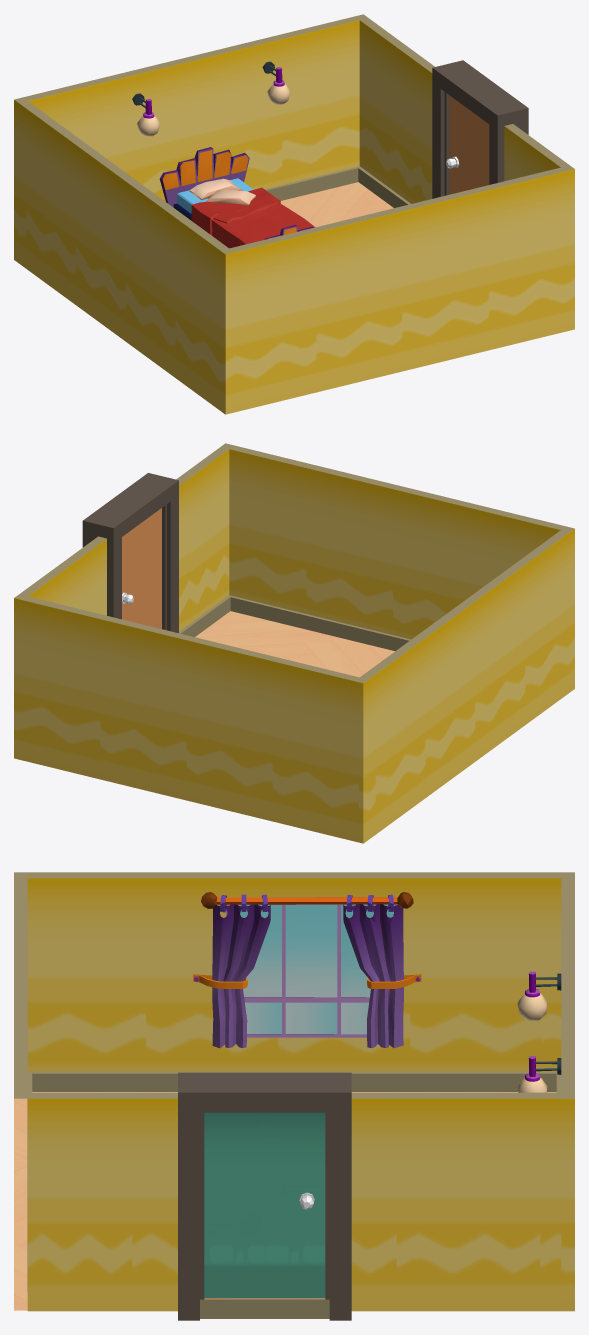
Rendered from Room.fbx.
3 views of the same model, one above another, from view 1: azimuth 30°, elevation 25°; view 2: azimuth 150°, elevation 25°; view 3: azimuth 270°, elevation 25° (orthographic). The views are drawn at different scales.
Parts seen in each view (by area): view 1: Room 1 Walls.003, Room 1 Door Boundary.003, Bed lvl 3 Mess, Bed lvl 3, Room 1 Door.003, Room 1 Floor.003, Wall Light lvl 3., Wall Light lvl 3; view 2: Room 1 Walls.003, Room 1 Door Boundary.003, Room 1 Floor.003, Room 1 Door.003; view 3: Room 1 Walls.003, Window Room lvl 3.001, Room 1 Wall Peice, Room 1 Door Boundary.003, Room 1 Floor.003, Wall Light lvl 3., Wall Light lvl 3.
Boxes of the visible parts, left/top/right/bottom form: Room 1 Walls.003: left=14, top=14, right=574, bottom=414; Room 1 Door Boundary.003: left=432, top=60, right=528, bottom=198; Bed lvl 3 Mess: left=159, top=147, right=315, bottom=245; Bed lvl 3: left=179, top=149, right=310, bottom=248; Room 1 Door.003: left=445, top=96, right=489, bottom=194; Room 1 Floor.003: left=280, top=182, right=393, bottom=227; Wall Light lvl 3.: left=132, top=93, right=160, bottom=136; Wall Light lvl 3: left=262, top=61, right=290, bottom=104; Room 1 Walls.003: left=14, top=443, right=574, bottom=843; Room 1 Door Boundary.003: left=82, top=473, right=178, bottom=633; Room 1 Floor.003: left=195, top=611, right=394, bottom=677; Room 1 Door.003: left=122, top=508, right=161, bottom=628; Room 1 Walls.003: left=14, top=872, right=574, bottom=1311; Window Room lvl 3.001: left=193, top=892, right=421, bottom=1048; Room 1 Wall Peice: left=200, top=1112, right=329, bottom=1318; Room 1 Door Boundary.003: left=178, top=1072, right=351, bottom=1320; Room 1 Floor.003: left=14, top=1092, right=556, bottom=1310; Wall Light lvl 3.: left=517, top=971, right=561, bottom=1020; Wall Light lvl 3: left=517, top=1055, right=561, bottom=1092.
Size of the model in its own units: 5.67 by 2.54 by 5.66.
